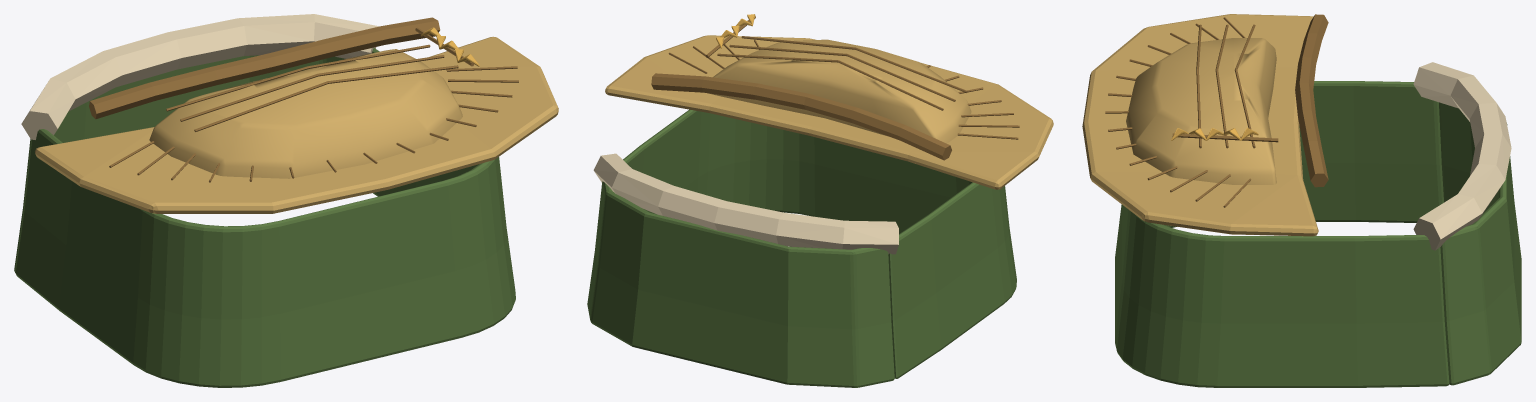
The model's file is peasant.fbx.
3 renders of one model, left to right at view 1: azimuth 30°, elevation 25°; view 2: azimuth 150°, elevation 25°; view 3: azimuth 270°, elevation 25°, orthographic. The views are drawn at different scales.
Parts seen in each view (by area): view 1: peasant_armor; view 2: peasant_armor; view 3: peasant_armor.
Boxes of the visible parts, x1,y1,x2,y2 form: peasant_armor: (14, 14, 558, 387); peasant_armor: (587, 14, 1053, 387); peasant_armor: (1082, 14, 1521, 387).
Size of the model in its own units: 5.28 by 2.7 by 4.57.
Materials: 1 (1 with a texture image).
